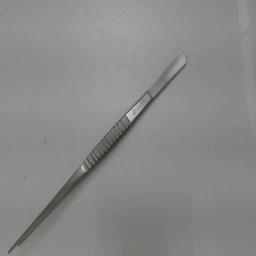DeBakey Dissector: (6, 44, 198, 254)
